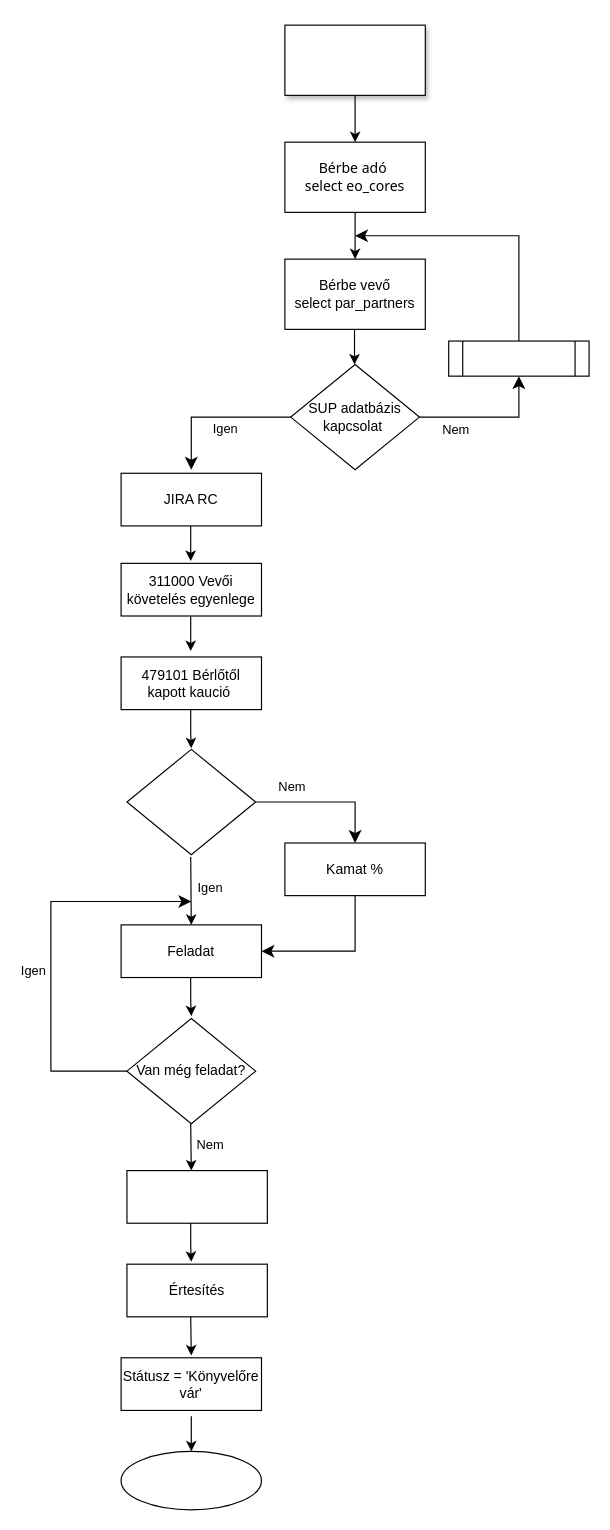
This 610x1530 diagram has some shape labels left out. Each missing label, with the centre of its shape:
"Ingatlanüzemeltetés Követelés kezelés" belongs at point (355, 61).
"Kamat BTK szerint" belongs at point (191, 801).
"Nem lehetséges a kapcsolat" belongs at point (518, 358).
"Pénzügyes-Könyvelő" belongs at point (196, 1196).
"Vége" belongs at point (190, 1480).
